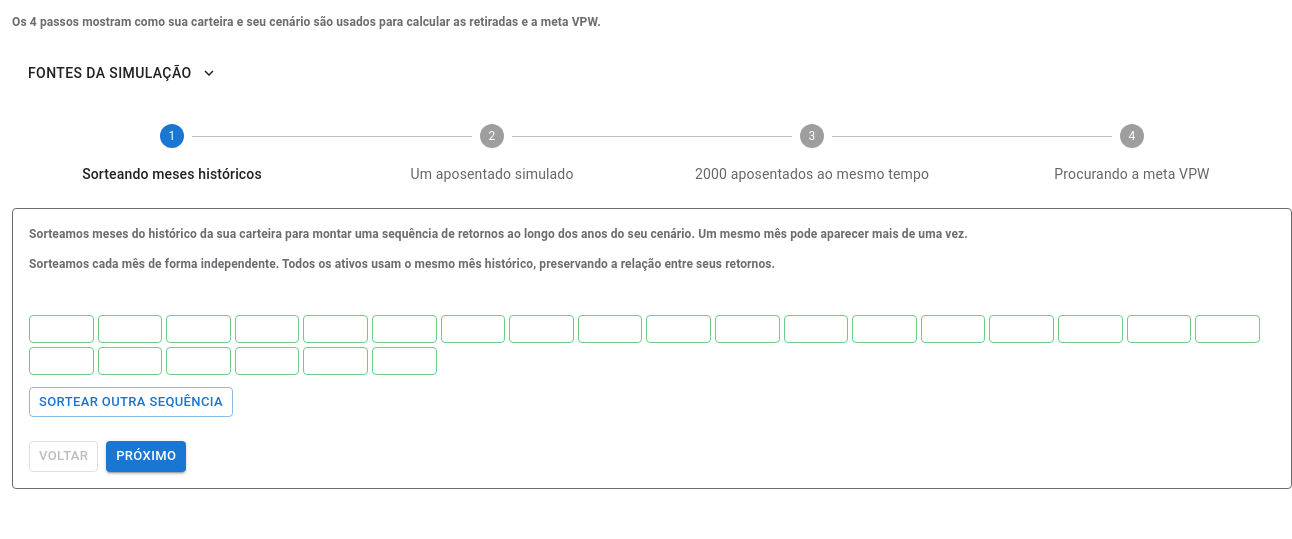
Test case: masks live financial values when privacy mode is enabled
Click the button "4 Procurando a meta VPW" at (1132, 174), box [1054,124,1210,182]
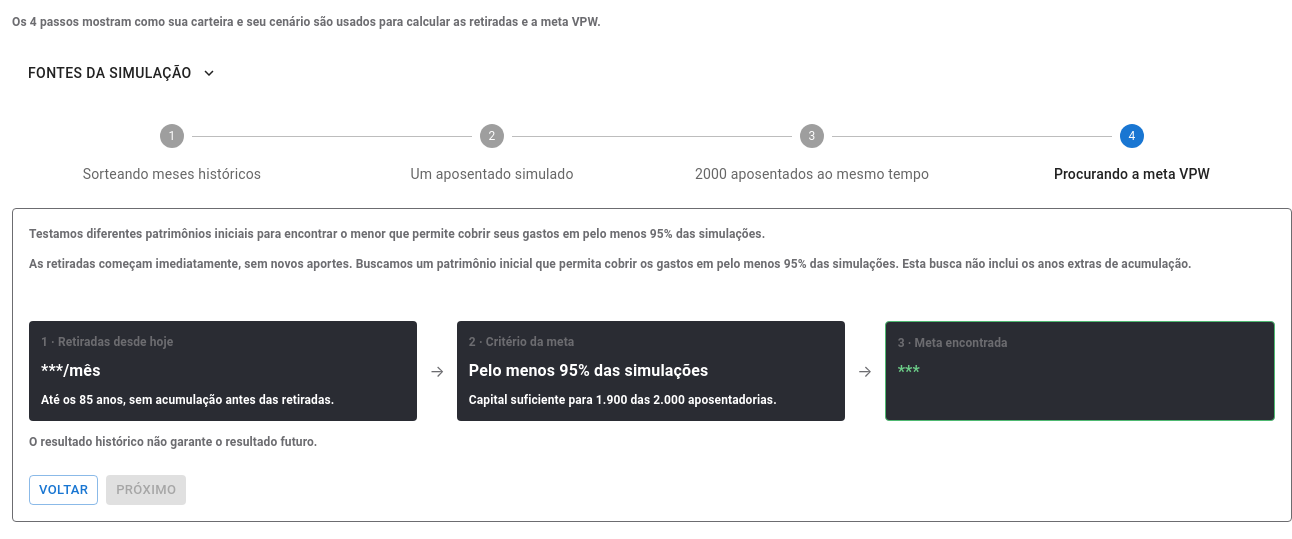
expect the text "***" is shown: met, box [898,362,920,380]
